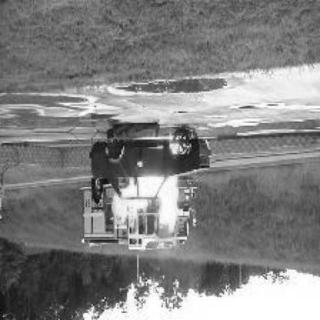Fire: (112, 176, 186, 232), (131, 131, 195, 157)
other: (156, 240, 186, 256)
